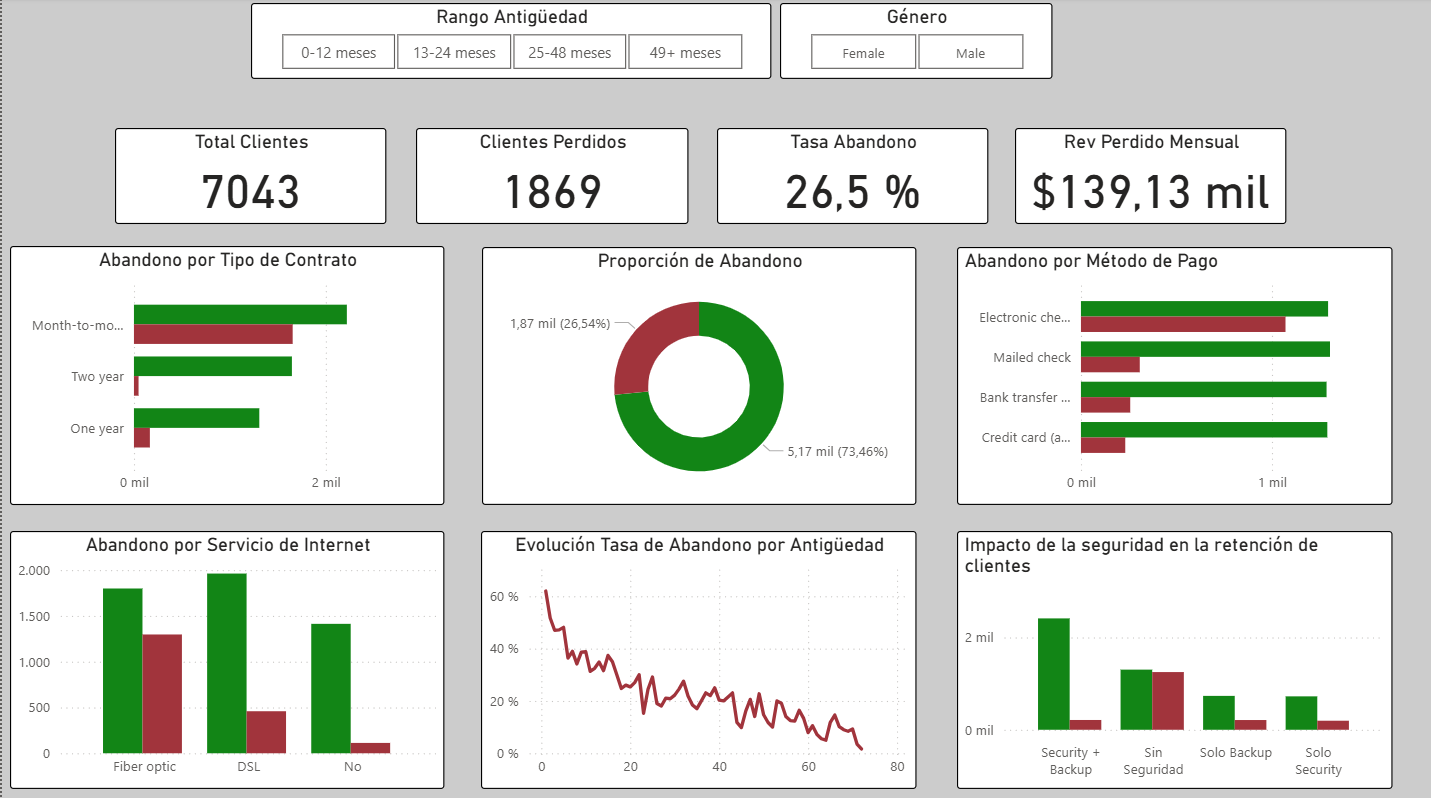

Layout of this report page (visuals, bound fields, positions):
{"tool":"powerbi","page":{"name":"Dashboard Telco","canvas":[1280,720],"ordinal":0},"visuals":[{"type":"card","title":"Total Clientes","fields":{"Values":["telco.Total Clientes"]},"box":[101.2,116.4,242.7,86],"z":0},{"type":"card","title":"Clientes Perdidos","fields":{"Values":["telco.Clientes Perdidos"]},"box":[370.7,116.4,243.6,86],"z":1000},{"type":"card","title":"Tasa Abandono","fields":{"Values":["telco.Tasa Churn"]},"box":[640.3,116.4,242.7,86],"z":2000},{"type":"card","title":"Rev Perdido Mensual","fields":{"Values":["telco.Ingreso Perdido"]},"box":[907.2,116.4,242.7,86],"z":3000},{"type":"slicer","title":"Rango Antigüedad","fields":{"Values":["telco.Rango_Antiguedad"]},"box":[223,4.5,465.7,68.1],"z":4000},{"type":"clusteredBarChart","title":"Abandono por Tipo de Contrato","fields":{"Series":["telco.Churn"],"Y":["CountNonNull(telco.customerID)"],"Category":["telco.Contract"]},"box":[7.2,222.1,388.7,231.9],"z":5000},{"type":"lineChart","title":"Evolución Tasa de Abandono por Antigüedad","fields":{"Category":["telco.tenure"],"Y":["telco.Tasa Churn"]},"box":[429,477.3,389.6,231],"z":6000},{"type":"donutChart","title":"Proporción de Abandono","fields":{"Category":["telco.Churn"],"Y":["CountNonNull(telco.customerID)"]},"box":[429.9,223,388.7,231],"z":7000},{"type":"clusteredColumnChart","title":"Abandono por Servicio de Internet","fields":{"Category":["telco.InternetService"],"Y":["CountNonNull(telco.customerID)"],"Series":["telco.Churn"]},"box":[7.2,477.3,388.7,231],"z":8000},{"type":"clusteredBarChart","title":"Abandono por Método de Pago","fields":{"Category":["telco.PaymentMethod"],"Y":["CountNonNull(telco.customerID)"],"Series":["telco.Churn"]},"box":[855.2,223,389.6,231],"z":9000},{"type":"clusteredColumnChart","title":"Impacto de la seguridad en la retención de clientes","fields":{"Category":["telco.Perfil_Seguridad"],"Y":["CountNonNull(telco.customerID)"],"Series":["telco.Churn"]},"box":[855,477,390,231],"z":9001},{"type":"slicer","title":"Género","fields":{"Values":["telco.gender"]},"box":[696.7,4.5,243.6,68.1],"z":9002}]}

Visuals, with their boxes in screenshot pixels (x1, y1, x2, y2), scaled from the page's 1280x720 canvas onto the 1431x798 screenshot:
"Total Clientes" card: [113, 129, 384, 224]
"Clientes Perdidos" card: [414, 129, 687, 224]
"Tasa Abandono" card: [716, 129, 987, 224]
"Rev Perdido Mensual" card: [1014, 129, 1286, 224]
"Rango Antigüedad" slicer: [249, 5, 770, 80]
"Abandono por Tipo de Contrato" clusteredBarChart: [8, 246, 443, 503]
"Evolución Tasa de Abandono por Antigüedad" lineChart: [480, 529, 915, 785]
"Proporción de Abandono" donutChart: [481, 247, 915, 503]
"Abandono por Servicio de Internet" clusteredColumnChart: [8, 529, 443, 785]
"Abandono por Método de Pago" clusteredBarChart: [956, 247, 1392, 503]
"Impacto de la seguridad en la retención de clientes" clusteredColumnChart: [956, 529, 1392, 785]
"Género" slicer: [779, 5, 1051, 80]
